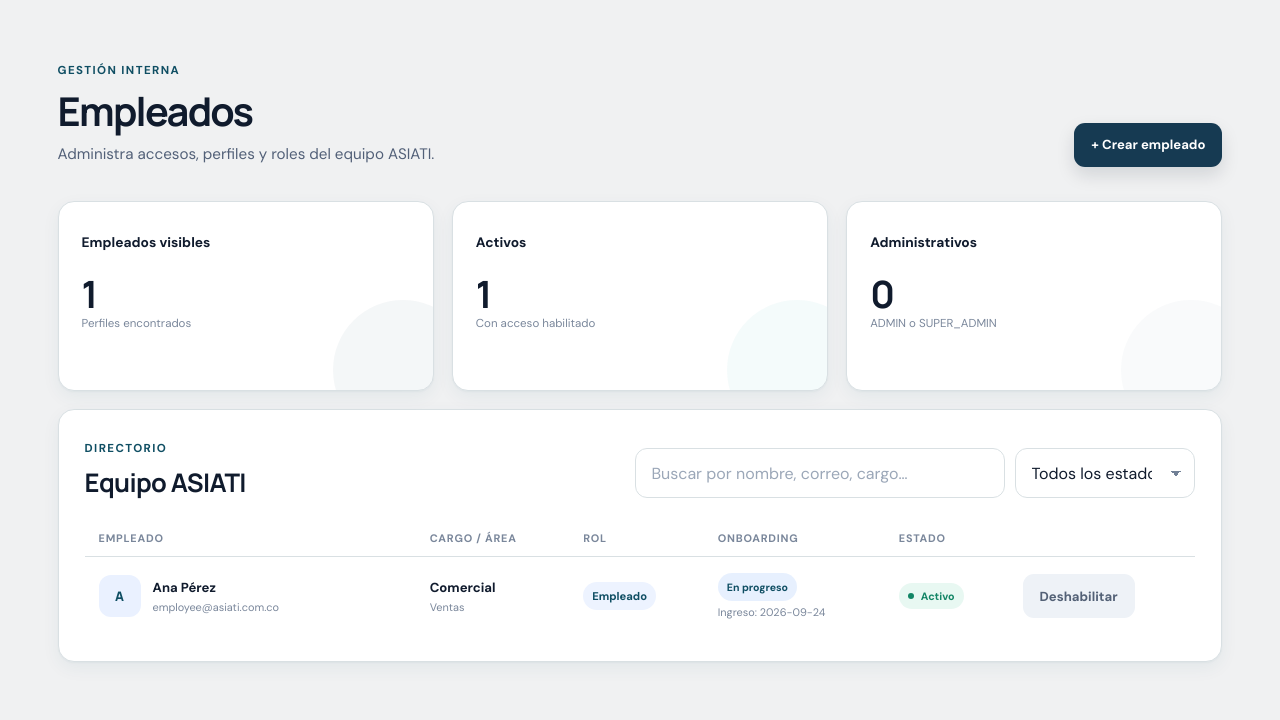
Employees administration › lists employees and lets an admin open the create flow
The image size is (1280, 720).
Check: the text "Ana Pérez" is shown, box [153,579,216,596]
Check: the text "employee@asiati.com.co" is shown, box [153,600,279,614]
Click the button "+ Crear empleado" at (1148, 145), box [1074,123,1222,167]
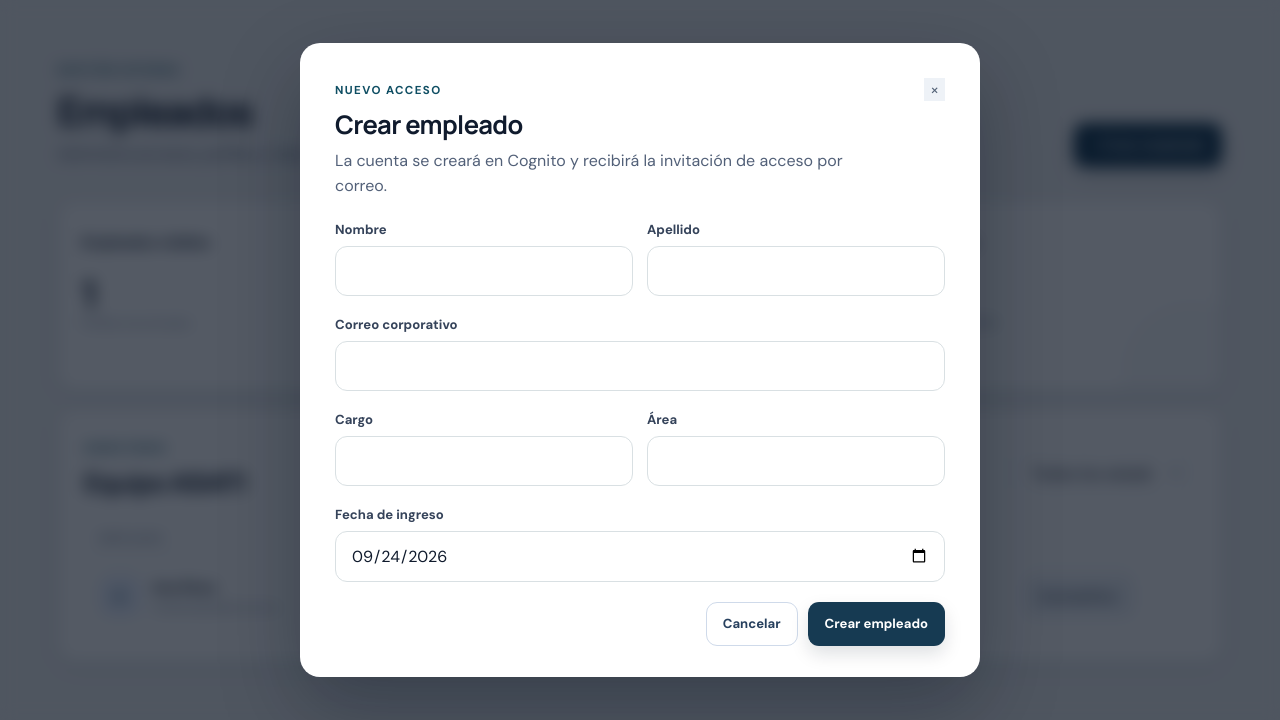
Check: the heading "Crear empleado" is shown, box [335,107,523,142]
